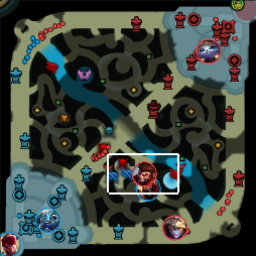ezreal: (162, 215, 185, 240)
fizz: (36, 207, 58, 232)
leesin: (1, 231, 21, 256)
monkeyking: (132, 161, 155, 185)
yuumi: (196, 38, 220, 64)
zed: (136, 175, 160, 200)
